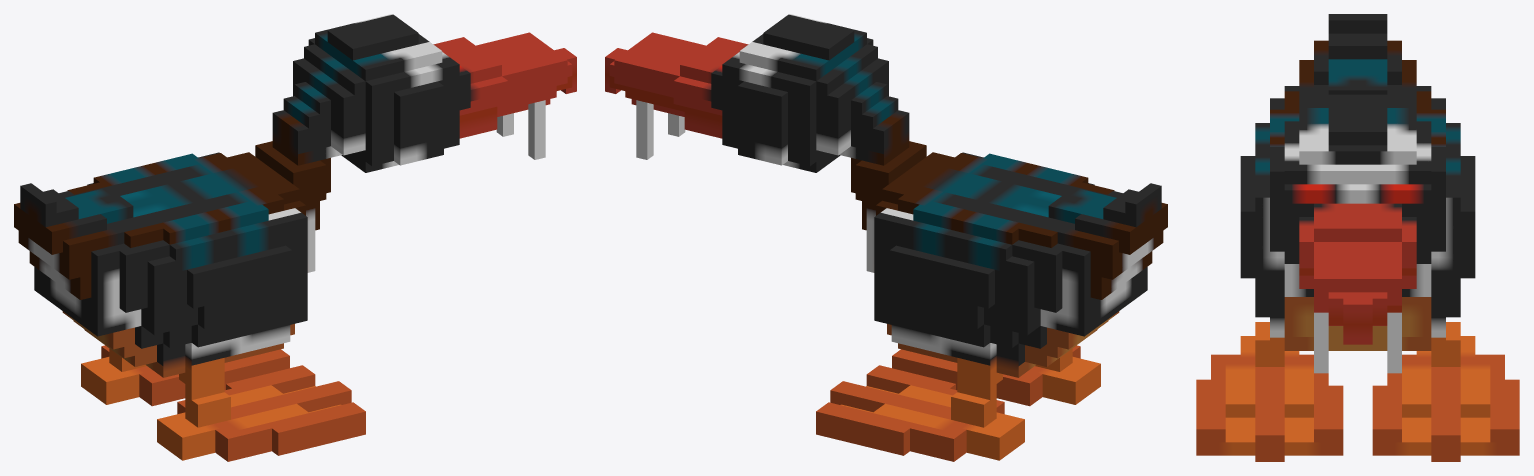
Rendered from vampire_duck.fbx.
3 views of the same model, side by side, from view 1: azimuth 30°, elevation 25°; view 2: azimuth 150°, elevation 25°; view 3: azimuth 270°, elevation 25° (orthographic). The views are drawn at different scales.
Parts seen in each view (by area): view 1: vampire_duck; view 2: vampire_duck; view 3: vampire_duck.
Boxes of the visible parts, x1=… form: vampire_duck: x1=14, y1=14, x2=576, y2=461; vampire_duck: x1=605, y1=14, x2=1167, y2=461; vampire_duck: x1=1196, y1=14, x2=1519, y2=461.
Size of the model in its own units: 49 by 29 by 22.
1 material, 1 textured.
